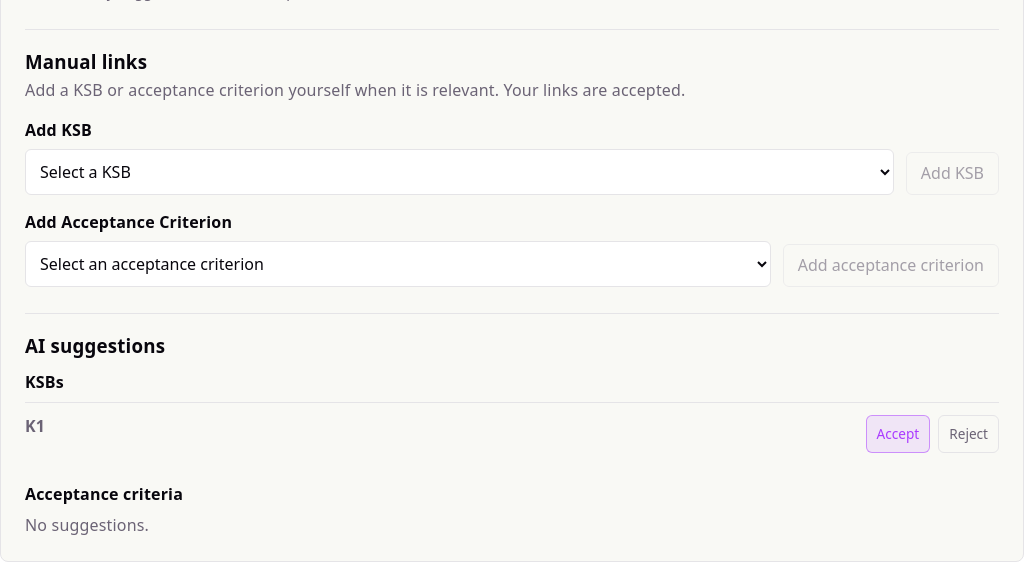
Test case: EvidenceEditor › updates review controls immediately after accepting a suggestion
(page scrolled)
Click the button "Accept": (898, 434) [866,415,930,452]
(page scrolled)
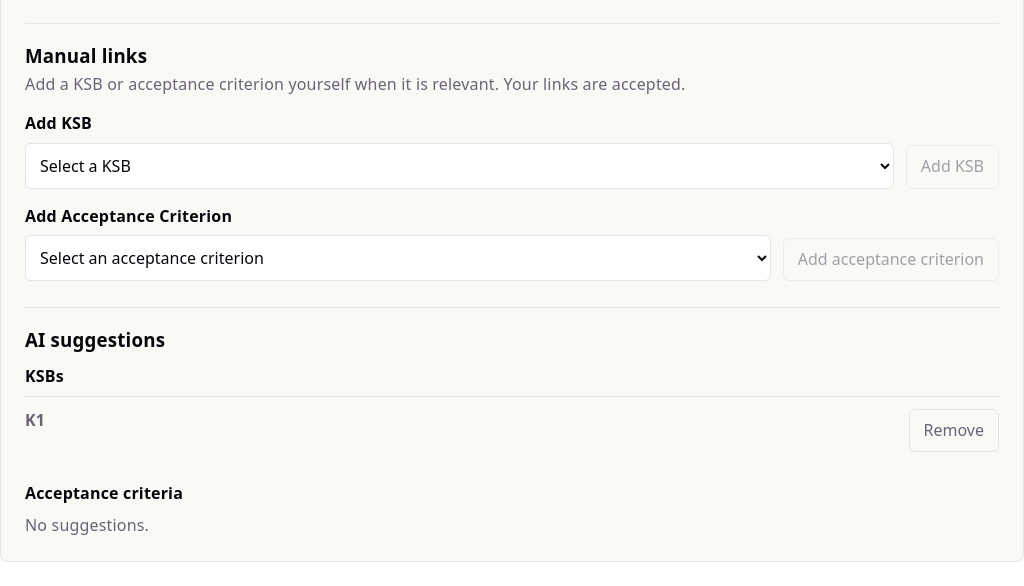
Expected: the button "Remove" is shown, [908,409,999,452]
